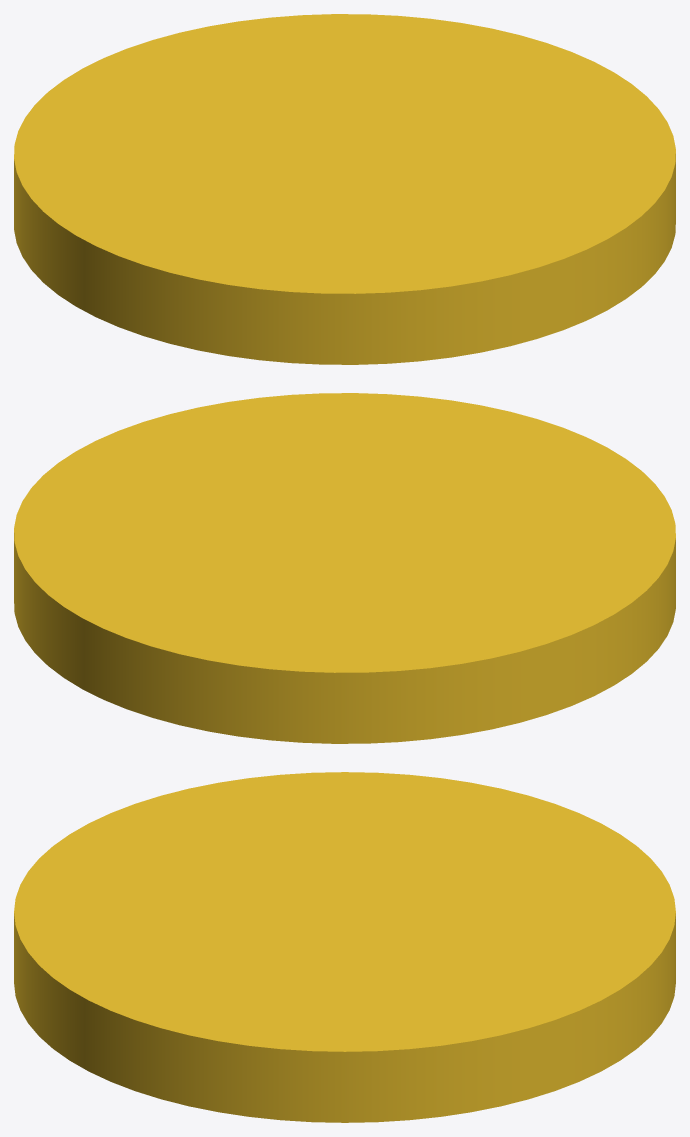
File: dominion_coin.glb
The picture shows the model from 3 angles, top to bottom: view 1: azimuth 30°, elevation 25°; view 2: azimuth 150°, elevation 25°; view 3: azimuth 270°, elevation 25°; orthographic projection.
Visible parts, largest first — view 1: GoldCoin; view 2: GoldCoin; view 3: GoldCoin.
Part boxes in pixels (x1,y1,x2,y2): GoldCoin: (14, 14, 675, 364); GoldCoin: (14, 393, 675, 743); GoldCoin: (14, 772, 675, 1122).
Size of the model in its own units: 0.76 by 0.09 by 0.76.
